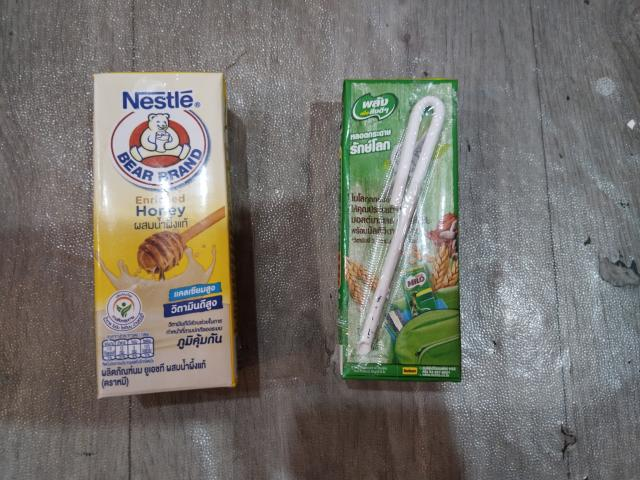drink_box: (88, 66, 244, 408), (331, 74, 479, 391)
